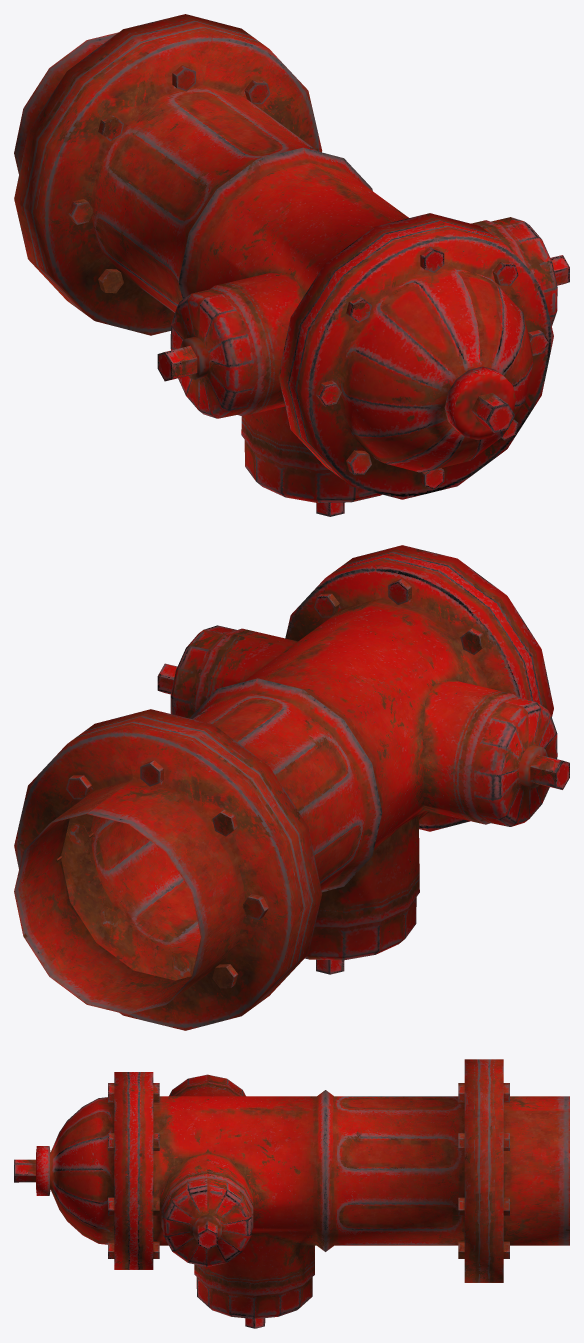
File: Hydrant.obj
The picture shows the model from 3 angles, top to bottom: view 1: azimuth 30°, elevation 25°; view 2: azimuth 150°, elevation 25°; view 3: azimuth 270°, elevation 25°; orthographic projection. The views are drawn at different scales.
Visible parts, largest first — view 1: Hydrant; view 2: Hydrant; view 3: Hydrant.
Boxes of the visible parts, left/top/right/bottom form: Hydrant: left=14, top=14, right=569, bottom=516; Hydrant: left=14, top=545, right=569, bottom=1030; Hydrant: left=14, top=1059, right=569, bottom=1328.
Bounding box in the file's own units: 0.6084 × 0.5252 × 1.04.
1 material, 1 textured.
